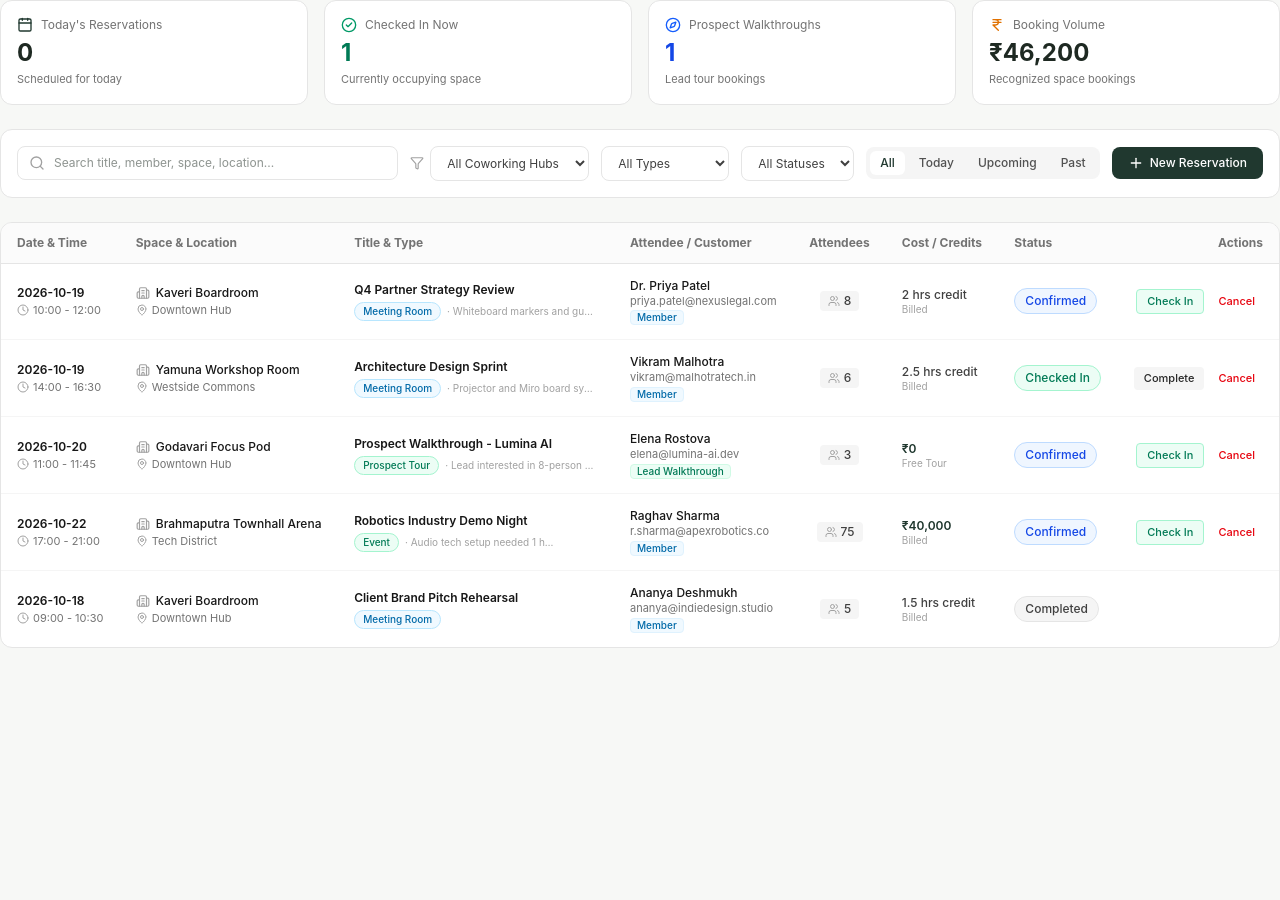
it: BookingsDirectory Component › opens new reservation modal when clicking New Reservation
Click the button "New Reservation": (1187, 163) [1112, 147, 1263, 179]
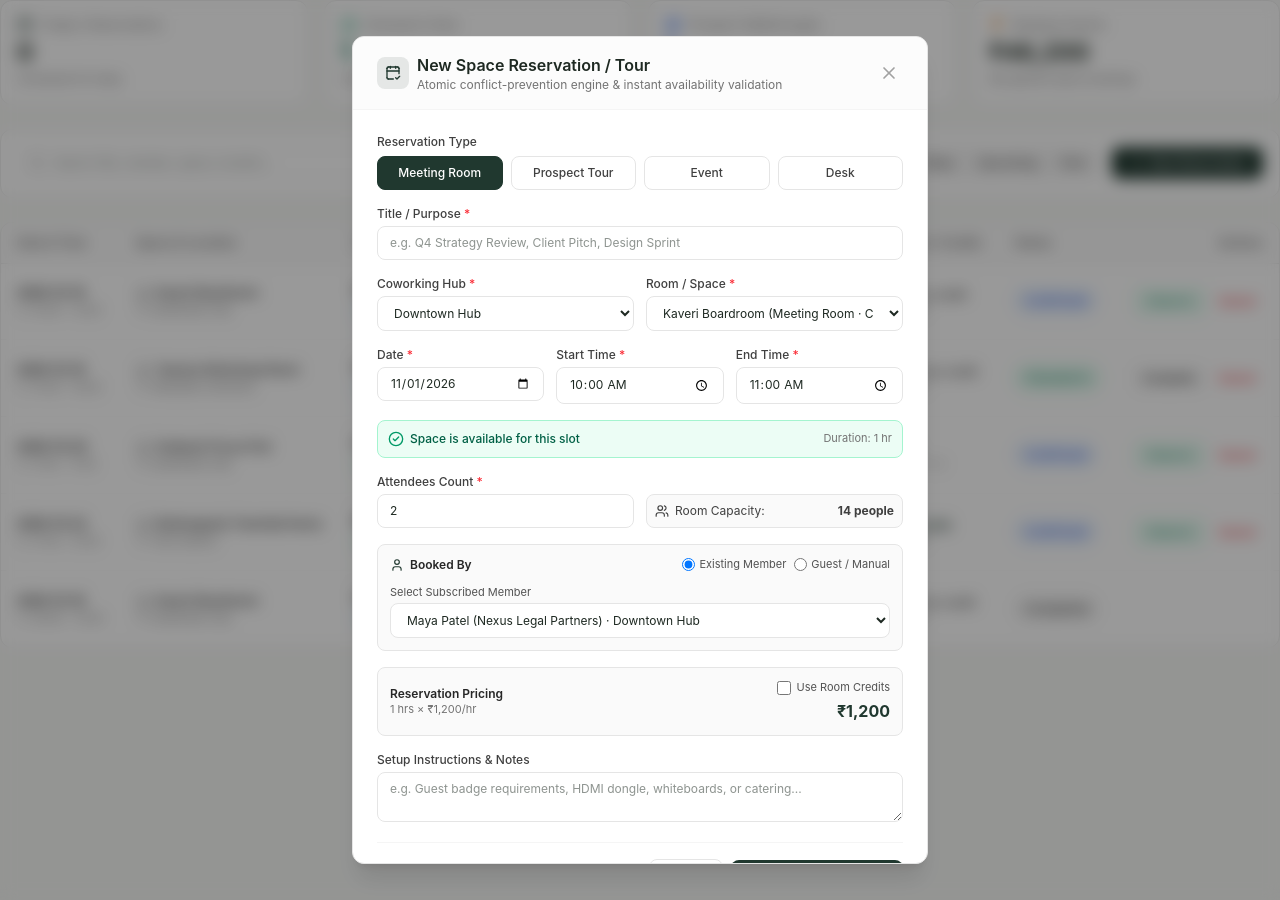
Result: the heading "New Space Reservation / Tour" is shown at [417, 55, 650, 75]
